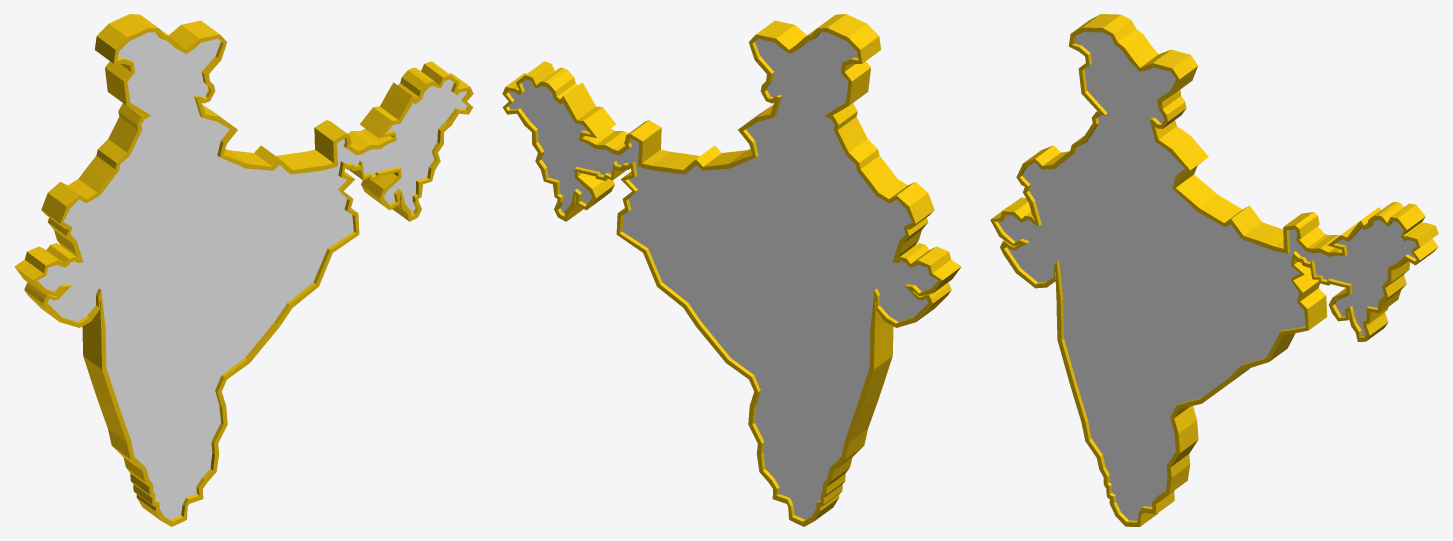
File: India1.gltf
3 renders of one model, left to right at view 1: azimuth 30°, elevation 25°; view 2: azimuth 150°, elevation 25°; view 3: azimuth 330°, elevation 25°, orthographic. The views are drawn at different scales.
Parts seen in each view (by area): view 1: India_Map.001; view 2: India_Map.001; view 3: India_Map.001.
Part boxes in pixels (x1,y1,x2,y2): India_Map.001: [14, 14, 473, 526]; India_Map.001: [502, 14, 961, 526]; India_Map.001: [990, 14, 1438, 526].
Size of the model in its own units: 1.81 by 1.99 by 0.1354.
